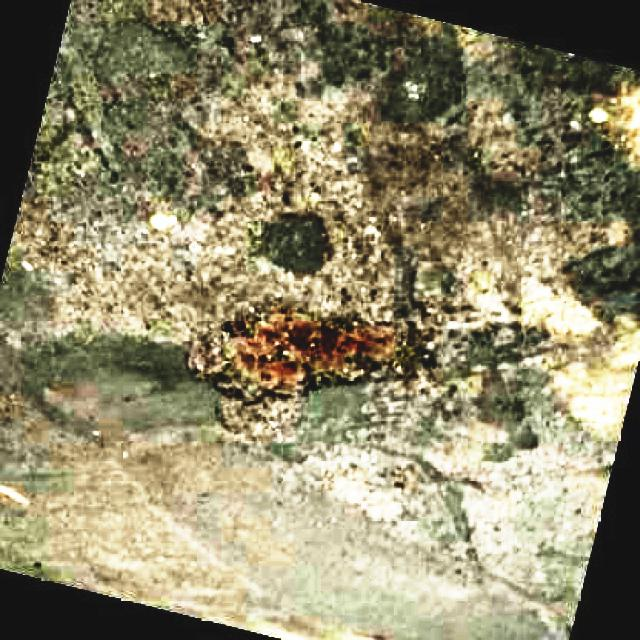pothole: (205, 282, 469, 398), (521, 263, 640, 446)
